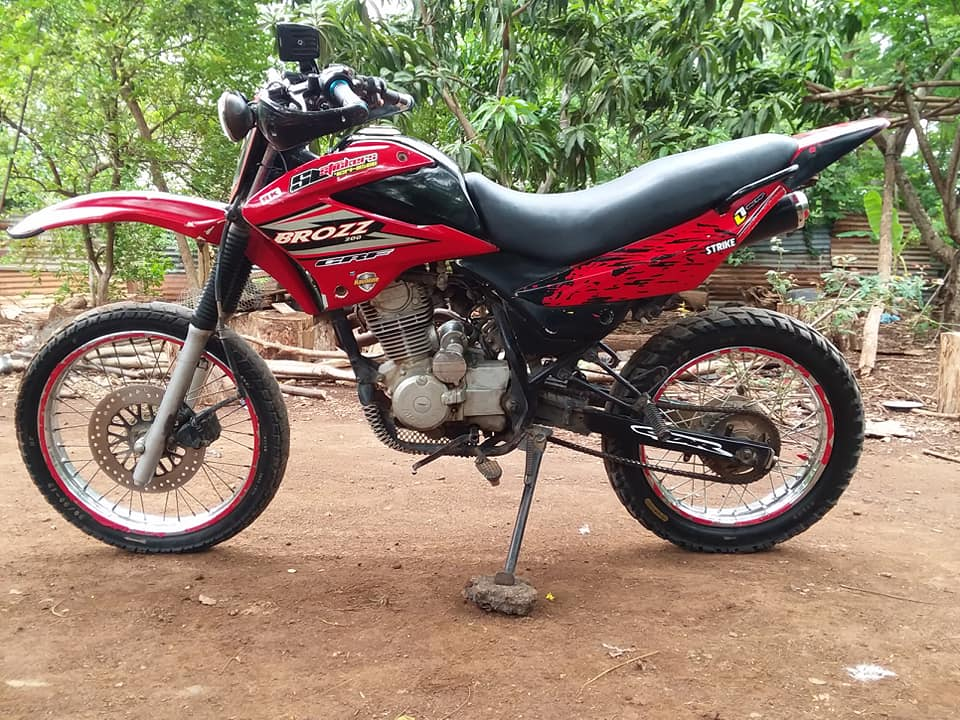moto: (5, 19, 892, 618)
